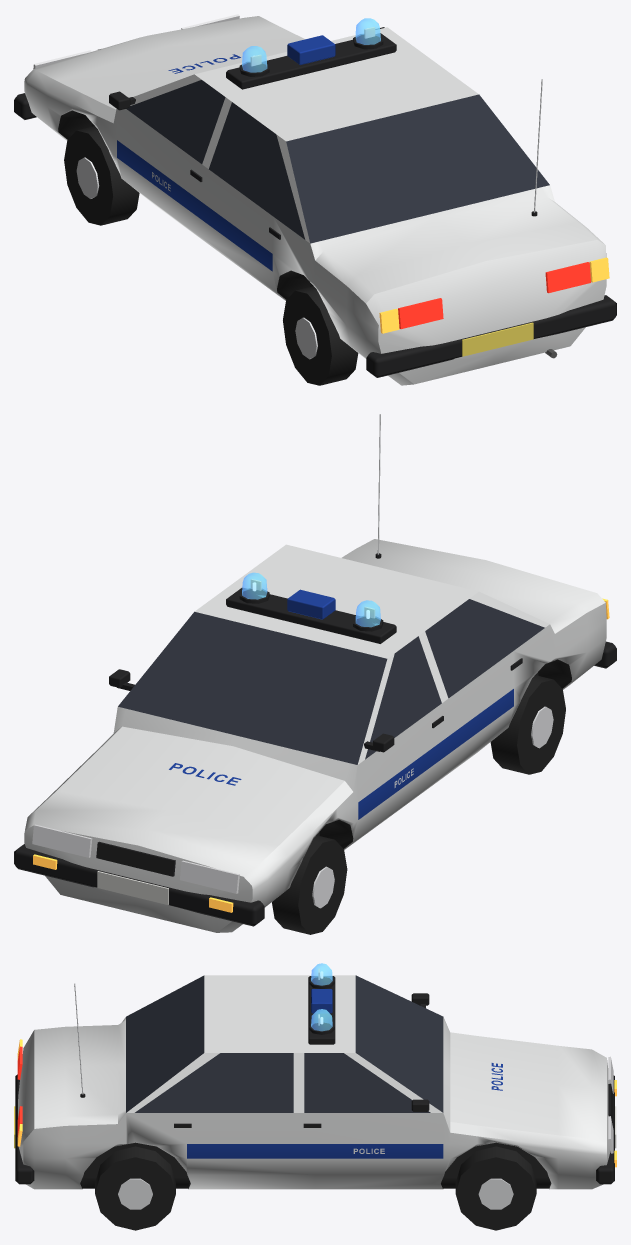
File: police_car_simple.glb
3 views of the same model, one above another, from view 1: azimuth 30°, elevation 25°; view 2: azimuth 150°, elevation 25°; view 3: azimuth 270°, elevation 25° (orthographic). The views are drawn at different scales.
Visible parts, largest first — view 1: POL_Body, POL_Greenhouse, POL_Tire_FL, POL_Tire_RL, POL_RearBumper, POL_BarBase, POL_RearPlate, POL_BarCentre, POL_TailLight_R, POL_TailLight_L, POL_Hubcap_RL, POL_Hubcap_FL (+2 smaller); view 2: POL_Body, POL_Greenhouse, POL_Tire_RL, POL_Tire_FL, POL_FrontBumper, POL_BarBase, POL_Grille, POL_FrontPlate, POL_Headlight_R, POL_Headlight_L, POL_BarCentre, POL_Hubcap_RL (+1 smaller); view 3: POL_Body, POL_Greenhouse, POL_Tire_FR, POL_Tire_RR, POL_Hubcap_FR, POL_Hubcap_RR, POL_BarBase, POL_RearBumper, POL_FrontBumper, POL_BarCentre, POL_Beacon_L, POL_Beacon_R.
Part boxes in pixels (box(x1,y1,x2,y2)): POL_Body: box(24, 16, 606, 385); POL_Greenhouse: box(126, 27, 549, 243); POL_Tire_FL: box(64, 126, 139, 225); POL_Tire_RL: box(283, 286, 358, 385); POL_RearBumper: box(366, 295, 616, 377); POL_BarBase: box(226, 33, 396, 89); POL_RearPlate: box(462, 322, 533, 356); POL_BarCentre: box(287, 35, 335, 64); POL_TailLight_R: box(545, 262, 590, 293); POL_TailLight_L: box(398, 298, 443, 329); POL_Hubcap_RL: box(295, 317, 317, 359); POL_Hubcap_FL: box(76, 157, 99, 198); POL_Body: box(24, 539, 606, 932); POL_Greenhouse: box(118, 544, 549, 764); POL_Tire_RL: box(490, 675, 565, 774); POL_Tire_FL: box(272, 835, 347, 934); POL_FrontBumper: box(14, 844, 264, 926); POL_BarBase: box(226, 587, 396, 643); POL_Grille: box(96, 841, 175, 876); POL_FrontPlate: box(97, 871, 168, 904); POL_Headlight_R: box(32, 824, 92, 857); POL_Headlight_L: box(180, 860, 239, 893); POL_BarCentre: box(287, 589, 335, 619); POL_Hubcap_RL: box(531, 706, 553, 748); POL_Body: box(18, 1017, 610, 1189); POL_Greenhouse: box(126, 975, 443, 1112); POL_Tire_FR: box(455, 1146, 536, 1230); POL_Tire_RR: box(95, 1146, 175, 1230); POL_Hubcap_FR: box(478, 1178, 513, 1209); POL_Hubcap_RR: box(118, 1178, 152, 1209); POL_BarBase: box(308, 976, 335, 1044); POL_RearBumper: box(15, 1074, 34, 1184); POL_FrontBumper: box(596, 1075, 614, 1184); POL_BarCentre: box(311, 989, 332, 1013); POL_Beacon_L: box(311, 963, 332, 985); POL_Beacon_R: box(311, 1009, 332, 1031).
Size of the model in its own units: 1.95 by 1.9 by 4.46.
